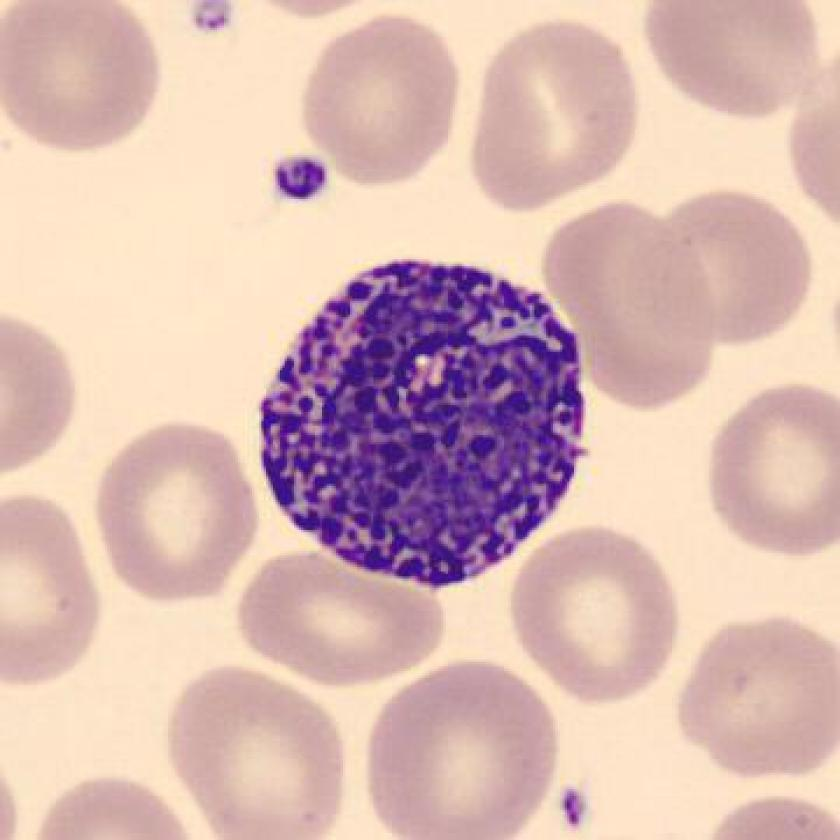basophil: (251, 249, 601, 598)
